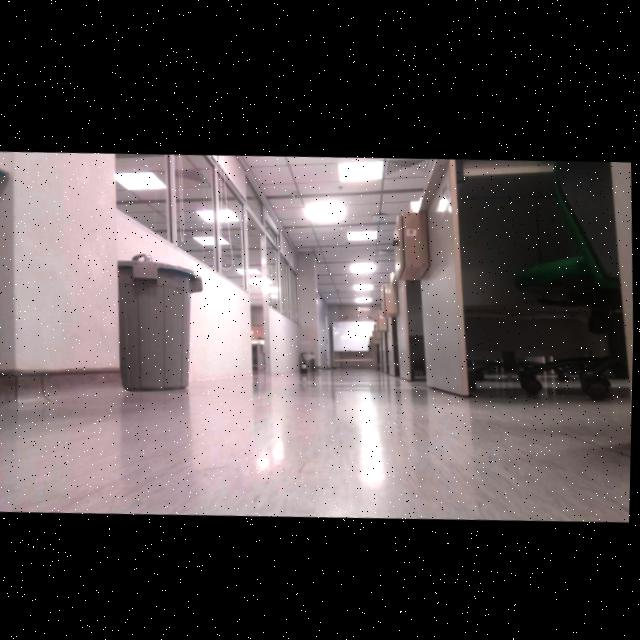E: (304, 361, 306, 364)
